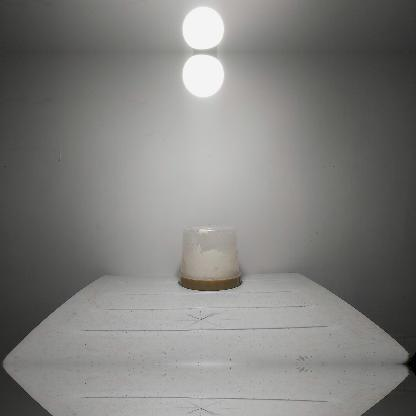Lady-s-Choice: (179, 224, 241, 290)
